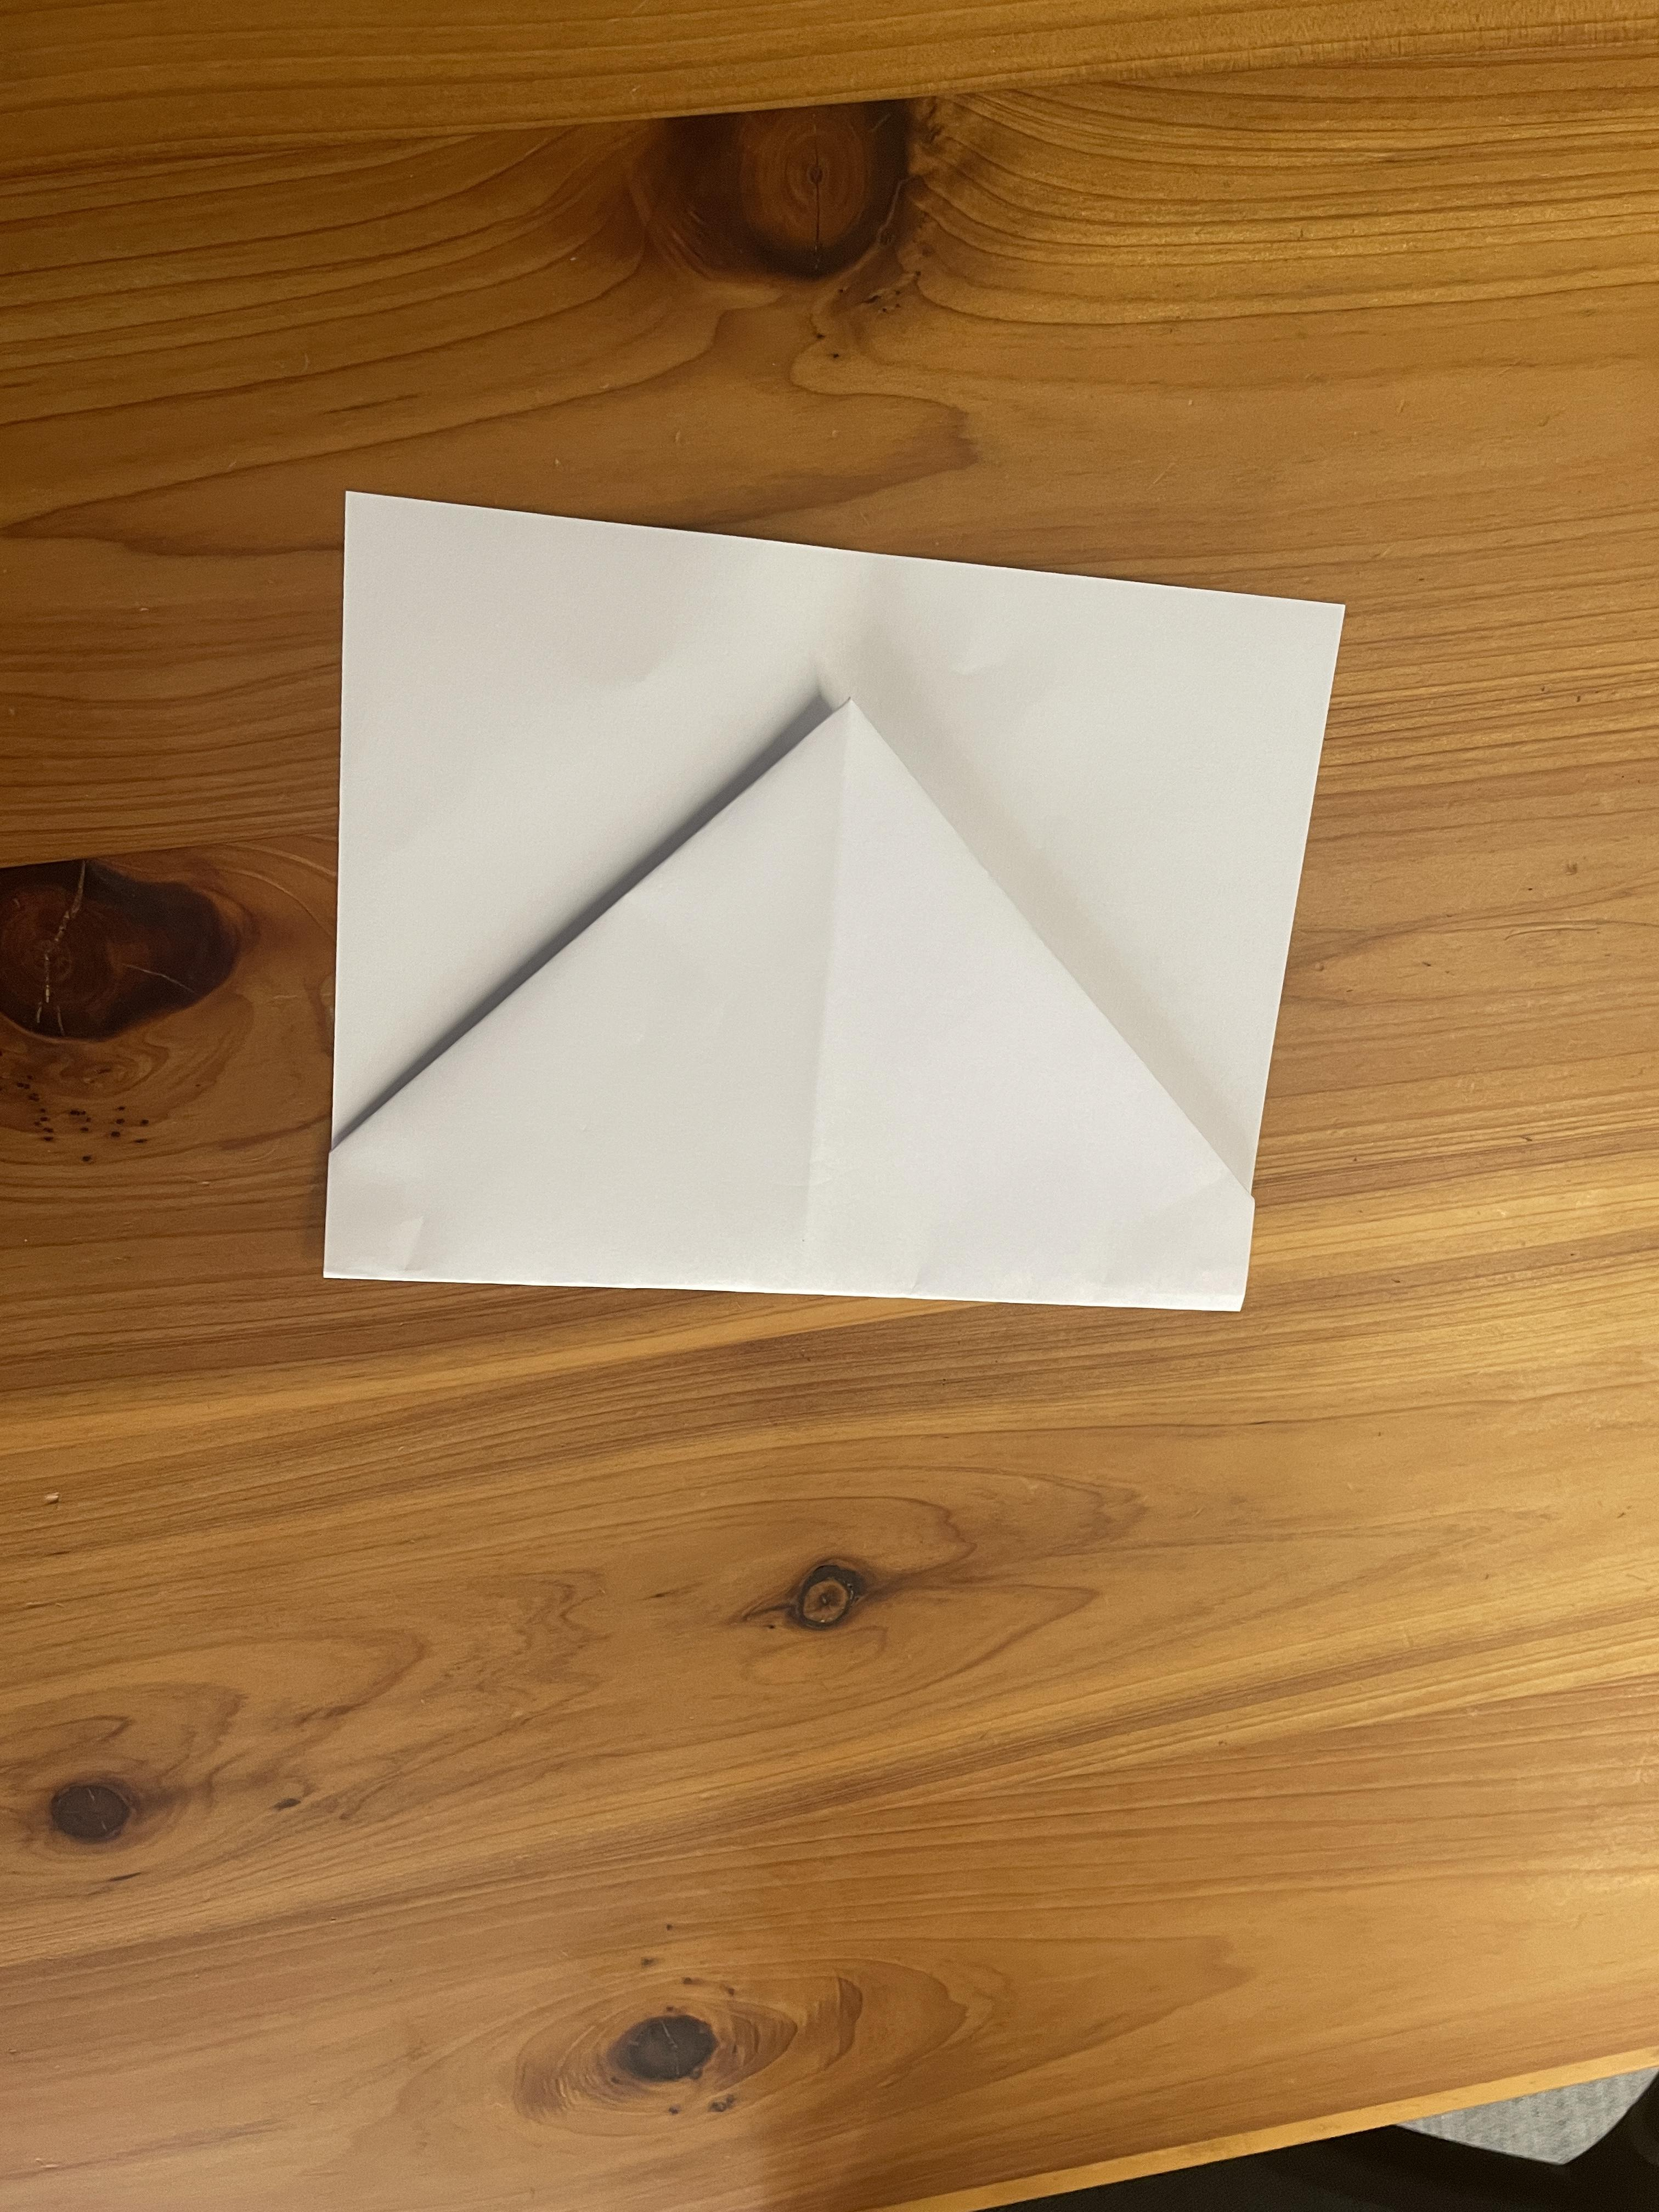shape_1: (258, 395, 1425, 1454)
